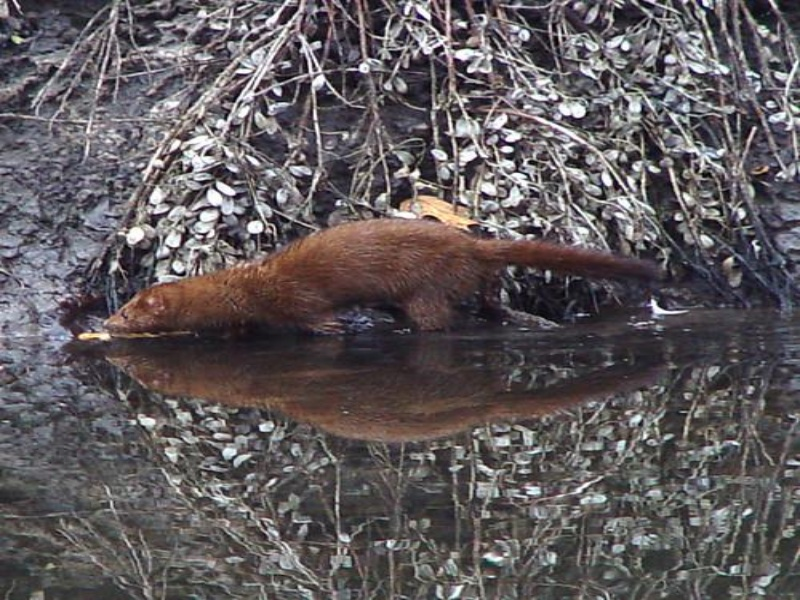minkish: (102, 215, 667, 338)
